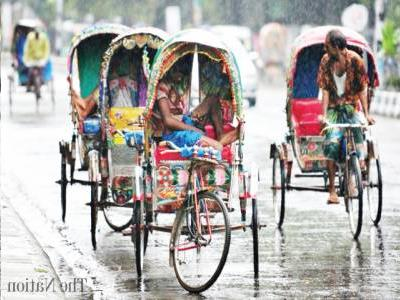Rickshaw: (278, 22, 397, 242), (143, 24, 262, 241), (101, 18, 174, 227), (59, 13, 127, 222), (7, 15, 60, 117)
